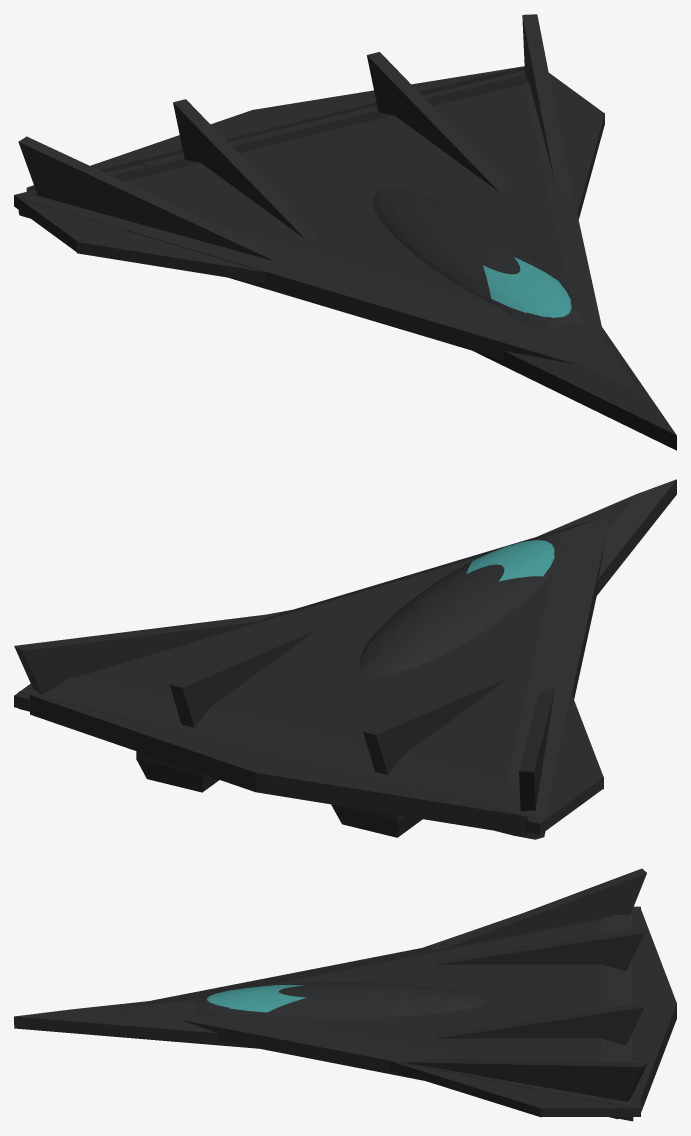
Rendered from fly2.obj.
3 renders of one model, top to bottom at view 1: azimuth 30°, elevation 25°; view 2: azimuth 150°, elevation 25°; view 3: azimuth 270°, elevation 25°, orthographic. The views are drawn at different scales.
Parts seen in each view (by area): view 1: 立方体.014; view 2: 立方体.014; view 3: 立方体.014.
Part boxes in pixels (x1,y1,x2,y2): 立方体.014: (14,14,676,450); 立方体.014: (14,479,676,839); 立方体.014: (14,868,676,1121).
Size of the model in its own units: 5.64 by 1.04 by 7.83.
